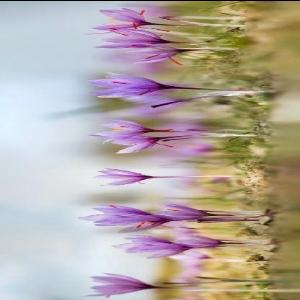Saffron: (89, 71, 162, 99), (82, 205, 154, 229), (82, 272, 150, 296), (90, 28, 164, 50), (126, 240, 190, 262), (93, 8, 147, 30), (92, 166, 148, 186), (130, 42, 179, 64), (101, 116, 149, 138), (109, 135, 159, 155), (162, 202, 210, 222), (176, 232, 222, 246)
